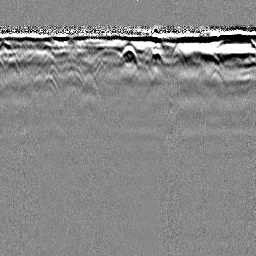cavity: (115, 42, 141, 67)
